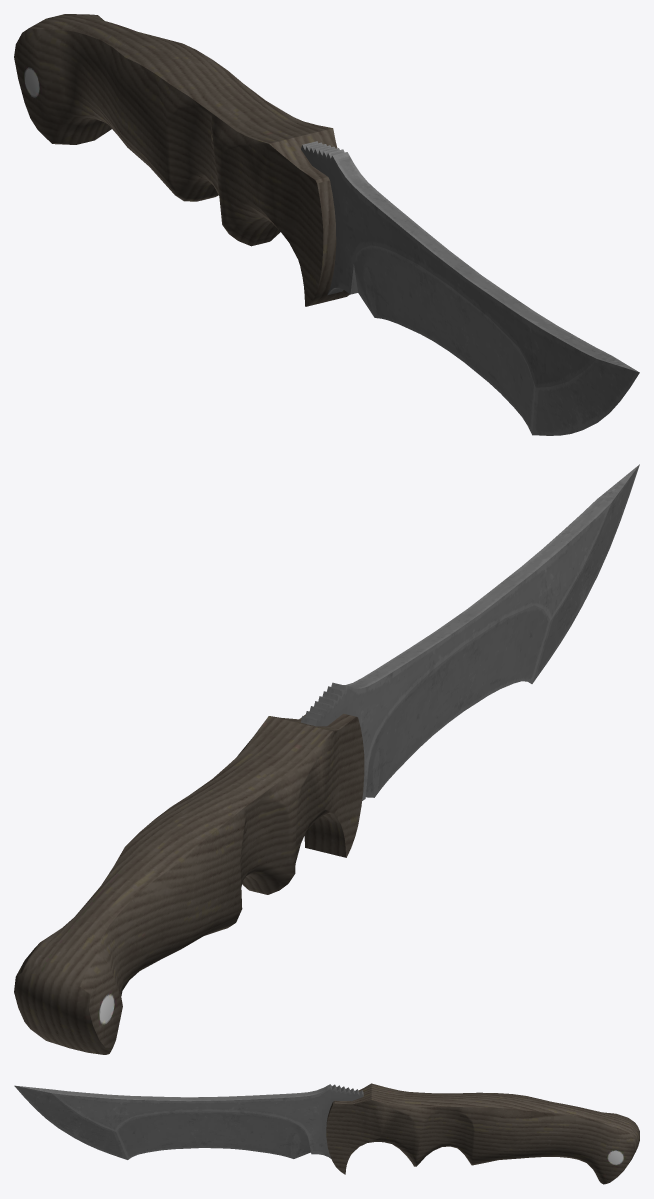
The model's file is Rampage_Drop.glb.
3 views of the same model, one above another, from view 1: azimuth 30°, elevation 25°; view 2: azimuth 150°, elevation 25°; view 3: azimuth 270°, elevation 25° (orthographic). The views are drawn at different scales.
Visible parts, largest first — view 1: Rampage_upd; view 2: Rampage_upd; view 3: Rampage_upd.
Boxes of the visible parts, <box> form: Rampage_upd: <box>14,14,639,435</box>; Rampage_upd: <box>14,464,639,1054</box>; Rampage_upd: <box>14,1083,639,1184</box>.
Size of the model in its own units: 0.0182 by 0.0413 by 0.2492.
1 material, 1 textured.
